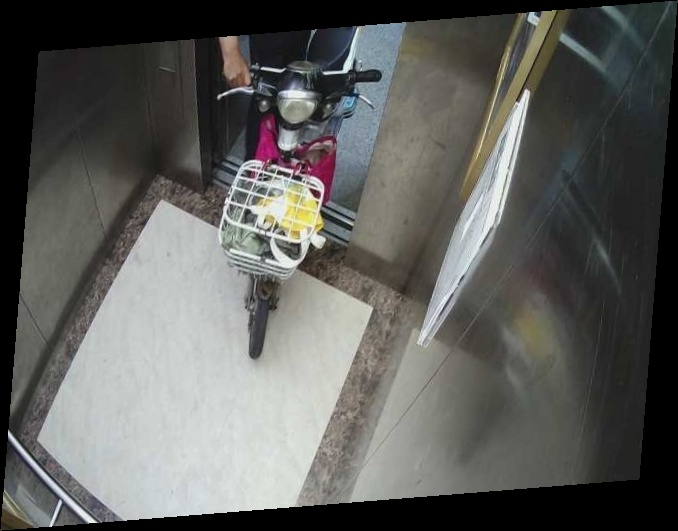electromobile: (213, 37, 380, 335)
